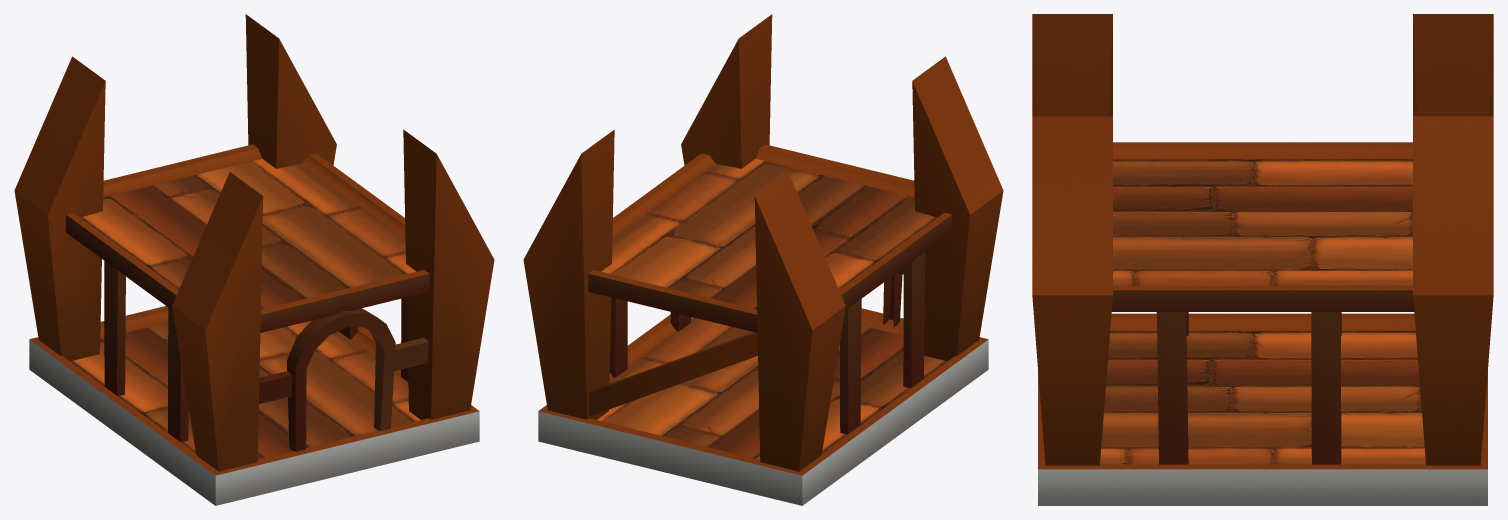
File: VikingHouse_01_L.fbx
3 renders of one model, left to right at view 1: azimuth 30°, elevation 25°; view 2: azimuth 150°, elevation 25°; view 3: azimuth 270°, elevation 25°, orthographic. The views are drawn at different scales.
Visible parts, largest first — view 1: VikingHouse_01_L; view 2: VikingHouse_01_L; view 3: VikingHouse_01_L.
Part boxes in pixels (left/top/right/bottom): VikingHouse_01_L: left=14, top=14, right=494, bottom=505; VikingHouse_01_L: left=523, top=14, right=1003, bottom=505; VikingHouse_01_L: left=1032, top=14, right=1493, bottom=505.
Bounding box in the file's own units: 200 × 199 × 229.
Materials: 1 (1 with a texture image).
